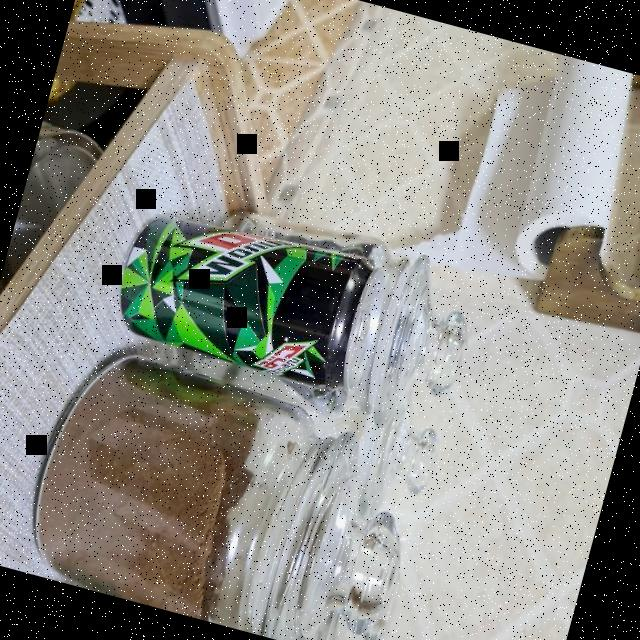can: (104, 192, 394, 398)
